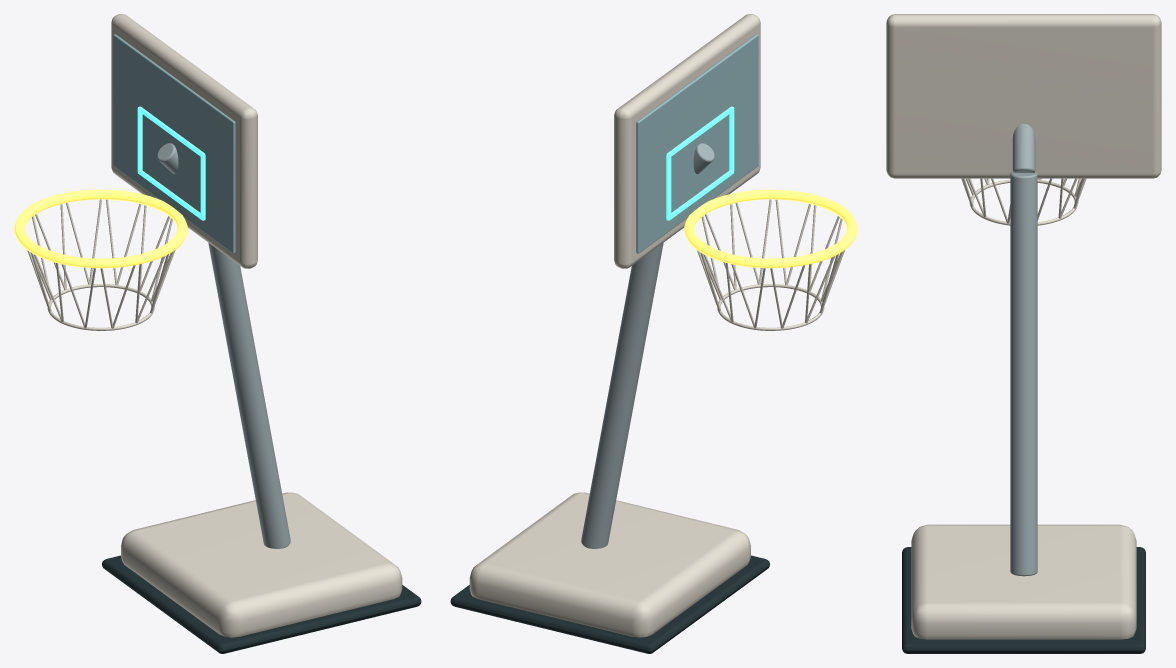
The model's file is relay-hoop.glb.
The picture shows the model from 3 angles, left to right: view 1: azimuth 30°, elevation 25°; view 2: azimuth 150°, elevation 25°; view 3: azimuth 270°, elevation 25°; orthographic projection.
Parts seen in each view (by area): view 1: Weighted base, Board glass, Angled support, Board frame, Dark foot, Orange rim, Net lower; view 2: Weighted base, Board glass, Angled support, Board frame, Dark foot, Orange rim, Net lower; view 3: Board frame, Weighted base, Angled support, Dark foot, Cantilever, Net lower.
Boxes of the visible parts, <box> form: Weighted base: <box>121,492,402,637</box>; Board glass: <box>113,34,235,253</box>; Angled support: <box>208,243,290,548</box>; Board frame: <box>111,14,257,268</box>; Dark foot: <box>102,555,421,653</box>; Orange rim: <box>14,189,187,268</box>; Net lower: <box>47,284,154,330</box>; Weighted base: <box>469,492,750,637</box>; Board glass: <box>636,34,758,253</box>; Angled support: <box>581,243,663,548</box>; Board frame: <box>614,14,760,268</box>; Dark foot: <box>450,555,769,653</box>; Orange rim: <box>684,189,857,268</box>; Net lower: <box>717,284,824,330</box>; Board frame: <box>886,14,1161,178</box>; Weighted base: <box>911,524,1136,639</box>; Angled support: <box>1010,172,1037,576</box>; Dark foot: <box>902,547,1145,653</box>; Cantilever: <box>1012,124,1035,172</box>; Net lower: <box>969,179,1078,225</box>.
Bounding box in the file's own units: 3.15 × 4.87 × 2.2.
